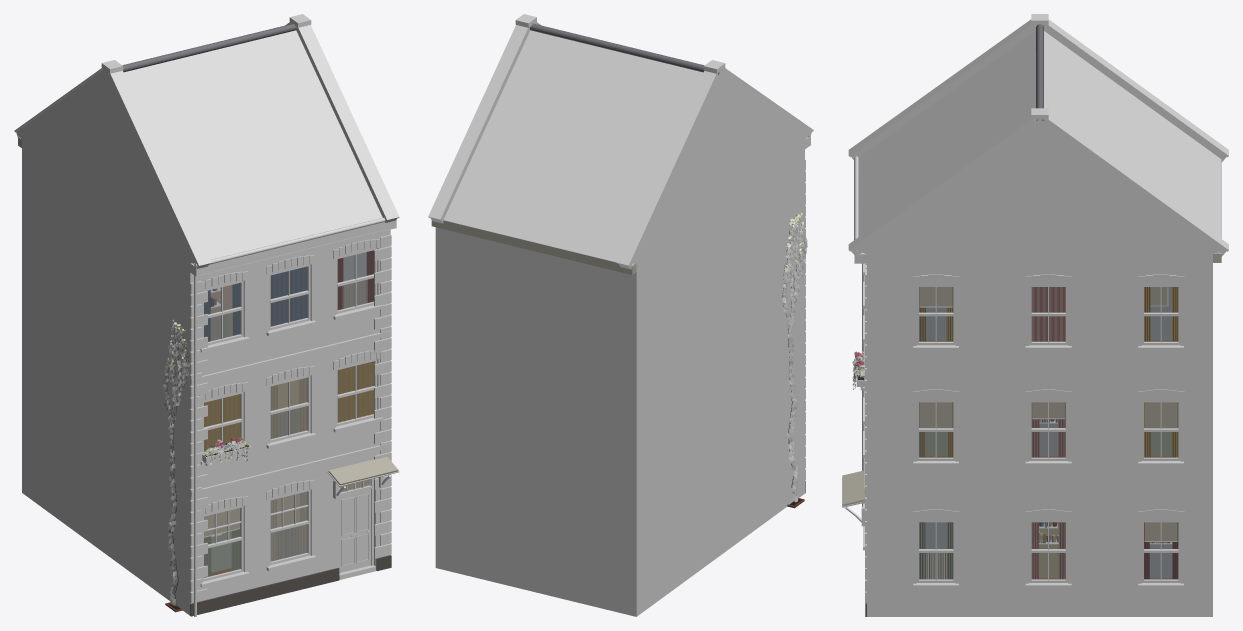
The model's file is StraightEnd_Outer1.glb.
3 views of the same model, side by side, from view 1: azimuth 30°, elevation 25°; view 2: azimuth 150°, elevation 25°; view 3: azimuth 270°, elevation 25° (orthographic). The views are drawn at different scales.
Parts seen in each view (by area): view 1: StraightEnd_Outer1; view 2: StraightEnd_Outer1; view 3: StraightEnd_Outer1.
Boxes of the visible parts, x1,y1,x2,y2 form: StraightEnd_Outer1: (14,14,399,616); StraightEnd_Outer1: (428,14,813,616); StraightEnd_Outer1: (842,14,1228,616).
Size of the model in its own units: 5.79 by 12.81 by 8.94.
